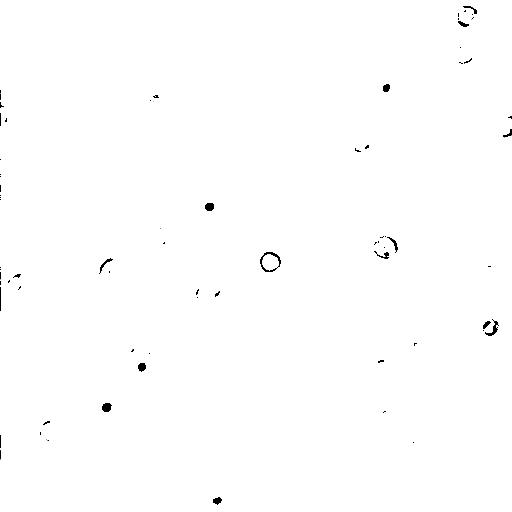micro-algae: (307, 152, 386, 240), (104, 193, 147, 234), (3, 263, 44, 300), (408, 428, 441, 467), (370, 70, 405, 105), (192, 189, 227, 223), (92, 388, 125, 424), (118, 340, 150, 372), (196, 486, 235, 512), (351, 284, 387, 310), (481, 261, 510, 292), (366, 357, 395, 386), (129, 356, 160, 383), (409, 331, 436, 359), (98, 5, 127, 31), (38, 418, 64, 446), (193, 280, 222, 305), (98, 256, 122, 286), (373, 403, 397, 432), (372, 235, 399, 260), (440, 321, 464, 348), (260, 250, 284, 275), (453, 39, 476, 65), (350, 130, 374, 153), (457, 5, 480, 28), (482, 317, 502, 338), (496, 114, 512, 139), (153, 225, 173, 245), (146, 1, 178, 11), (8, 275, 22, 294), (2, 102, 11, 127), (1, 284, 8, 310), (2, 435, 8, 456)
